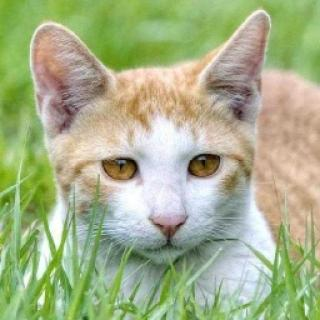cat: (24, 18, 274, 266)
nose: (143, 200, 193, 240)
